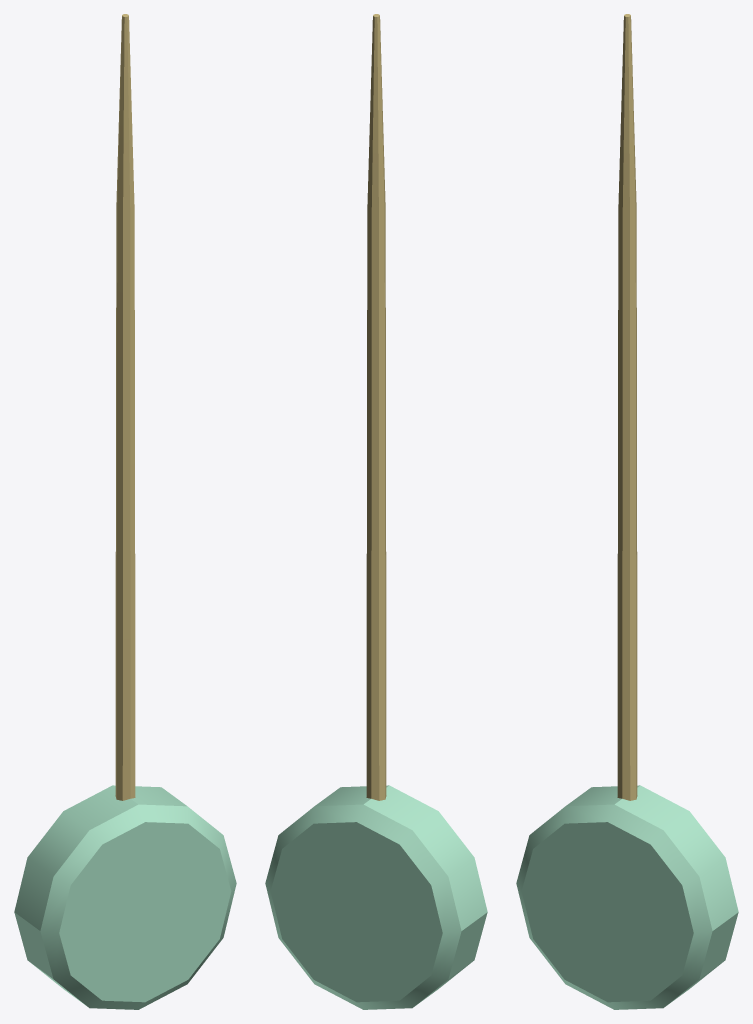
Rendered from skewer.fbx.
3 views of the same model, side by side, from view 1: azimuth 30°, elevation 25°; view 2: azimuth 150°, elevation 25°; view 3: azimuth 330°, elevation 25° (orthographic).
Parts seen in each view (by area): view 1: skewer; view 2: skewer; view 3: skewer.
Part boxes in pixels (bbox=[...]): skewer: bbox=[14, 14, 236, 1009]; skewer: bbox=[265, 14, 487, 1009]; skewer: bbox=[516, 14, 738, 1009].
Bounding box in the file's own units: 2.63 × 12.59 × 0.9167.
